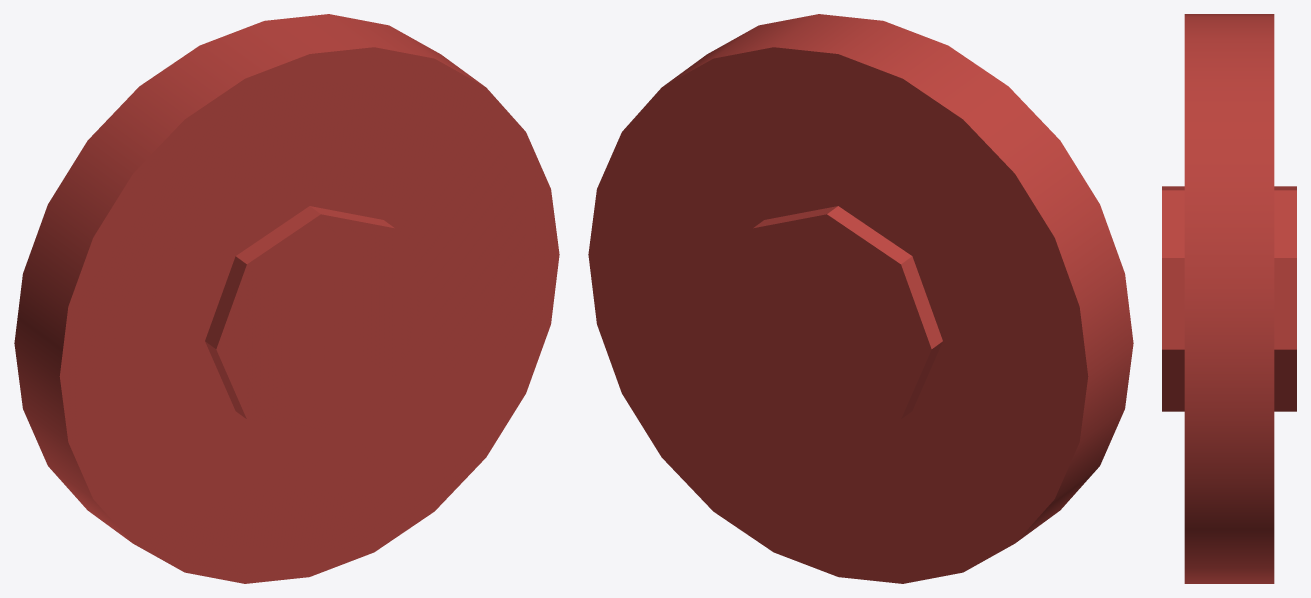
Rendered from front_15_lod1.glb.
3 views of the same model, side by side, from view 1: azimuth 30°, elevation 25°; view 2: azimuth 150°, elevation 25°; view 3: azimuth 270°, elevation 25° (orthographic).
Parts seen in each view (by area): view 1: front_15_lod1; view 2: front_15_lod1; view 3: front_15_lod1.
Part boxes in pixels (x1,y1,x2,y2): front_15_lod1: [14, 14, 559, 583]; front_15_lod1: [588, 14, 1133, 583]; front_15_lod1: [1162, 14, 1296, 583].
Size of the model in its own units: 0.0764 by 0.0764 by 0.018.
